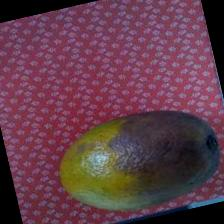Orange Rotten: (43, 92, 224, 224)
